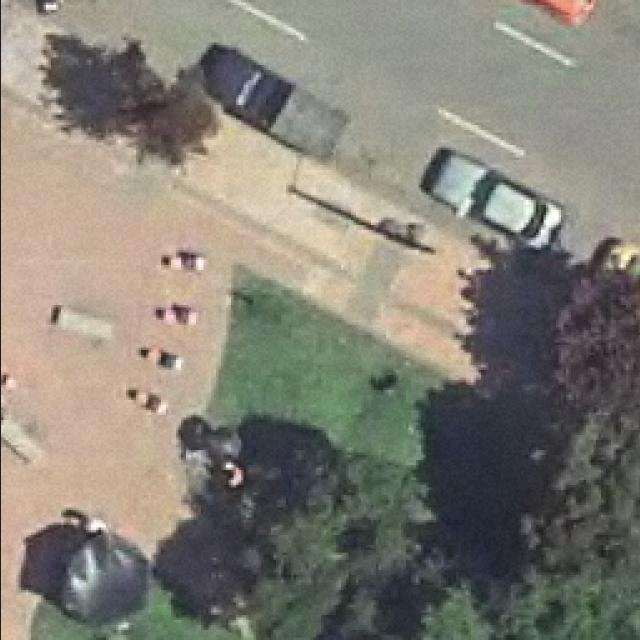vendedor_ambulante: (57, 526, 152, 627)
